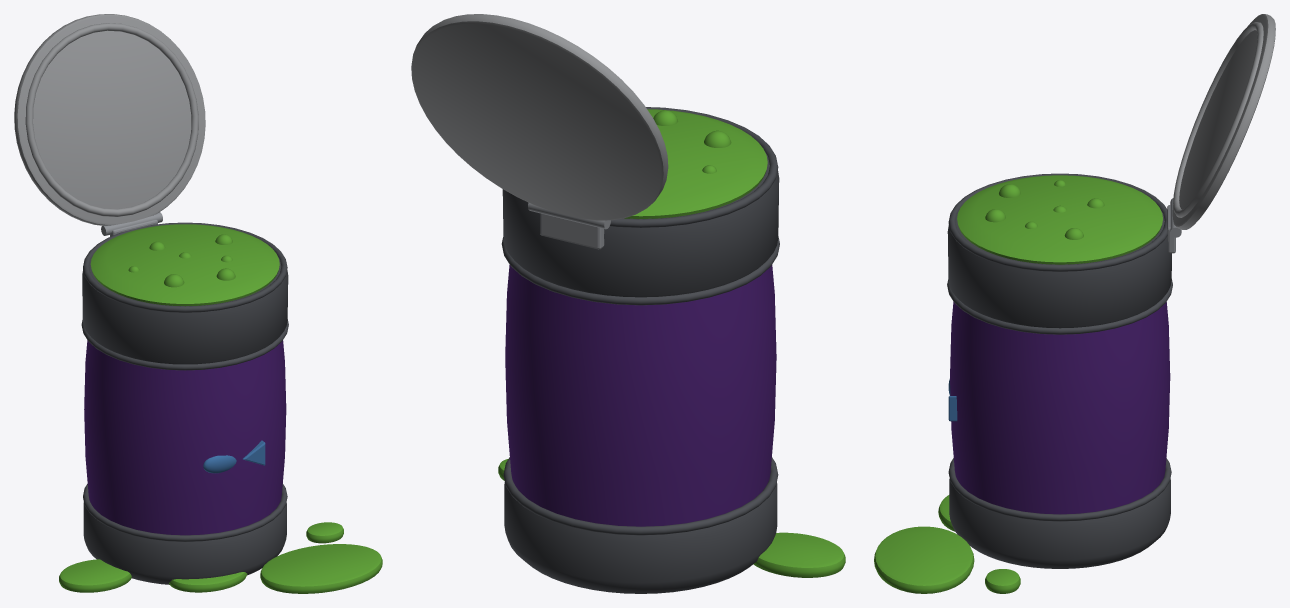
The model's file is gen_toxic_can_vertex.mobile-high.glb.
3 views of the same model, side by side, from view 1: azimuth 30°, elevation 25°; view 2: azimuth 150°, elevation 25°; view 3: azimuth 270°, elevation 25° (orthographic). The views are drawn at different scales.
Visible parts, largest first — view 1: gen_toxic_can_vertex; view 2: gen_toxic_can_vertex; view 3: gen_toxic_can_vertex.
Part boxes in pixels (x1,y1,x2,y2): gen_toxic_can_vertex: (14, 14, 382, 593); gen_toxic_can_vertex: (411, 14, 845, 593); gen_toxic_can_vertex: (874, 14, 1275, 593).
Bounding box in the file's own units: 0.47 × 0.772 × 0.5616.
